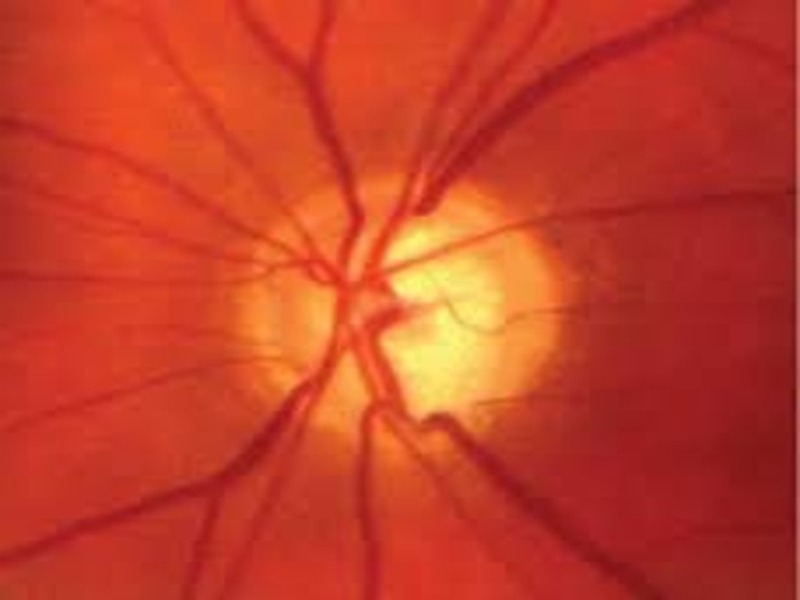Optic Cup: (386, 233, 502, 404)
Optic Disc: (237, 171, 563, 444)
